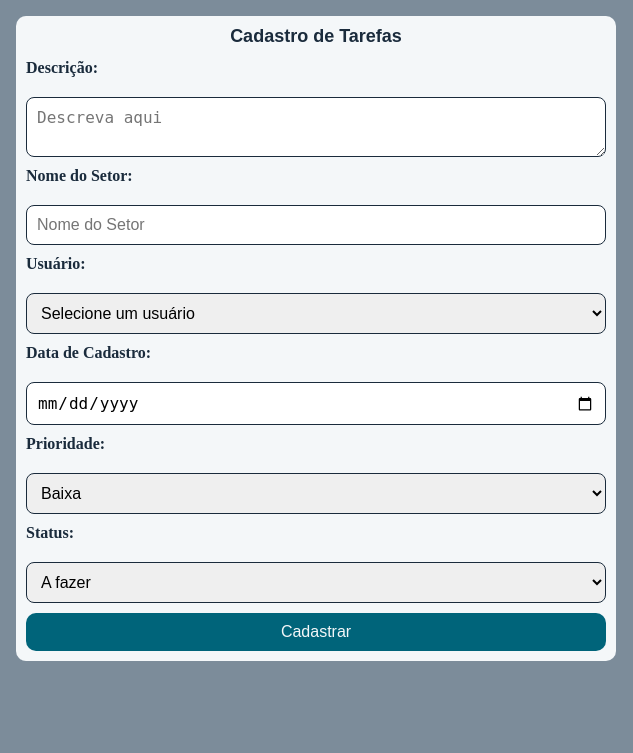
Scenario: Cadastro de Tarefas › deve mostrar erro se o nome do setor não for preenchido
# Preenche os campos obrigatórios, deixando 'Nome do Setor' vazio
Type "Descrição válida" into the text box labelled "Descrição:" at (316, 127), box [26,97,606,157]
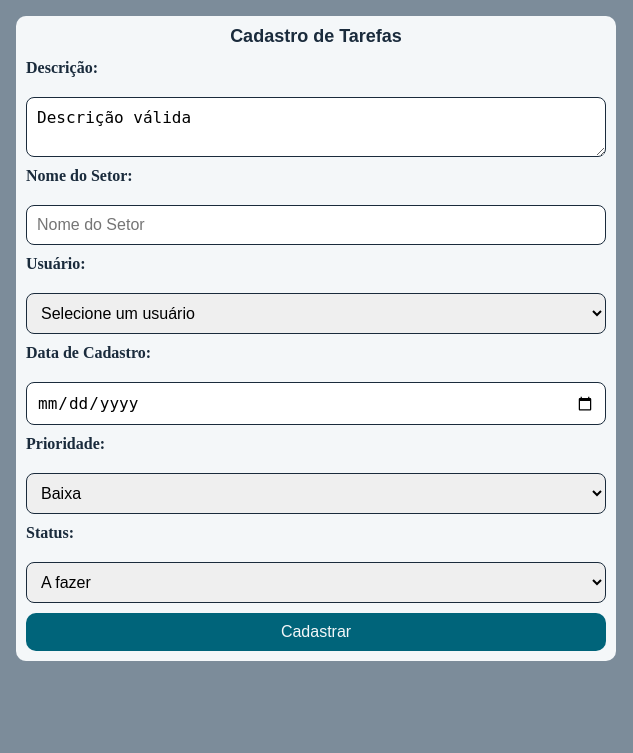
Select "1" in the dropdown labelled "Usuário:" at (316, 314), box [26,293,606,334]
Type "2025-01-01" into the date field labelled "Data de Cadastro:" at (316, 404), box [26,382,606,425]
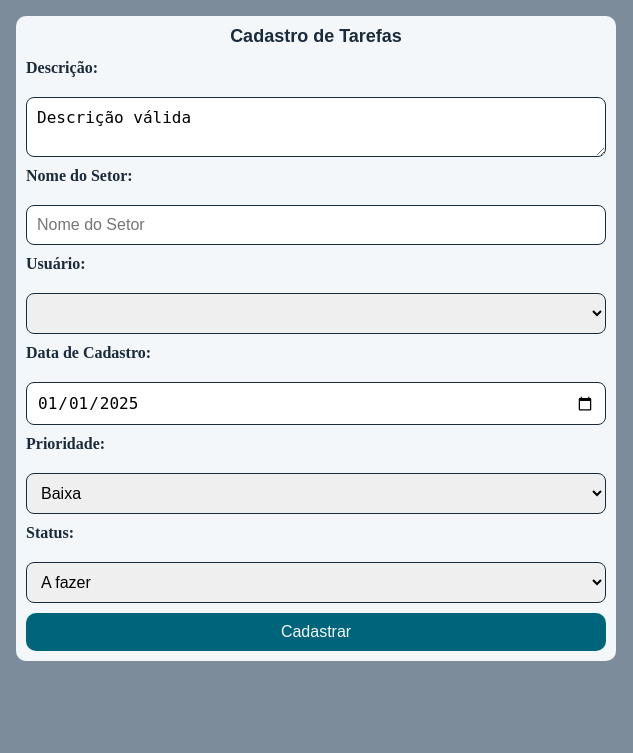
Click the button "Cadastrar" at (316, 632), box [26,613,606,651]
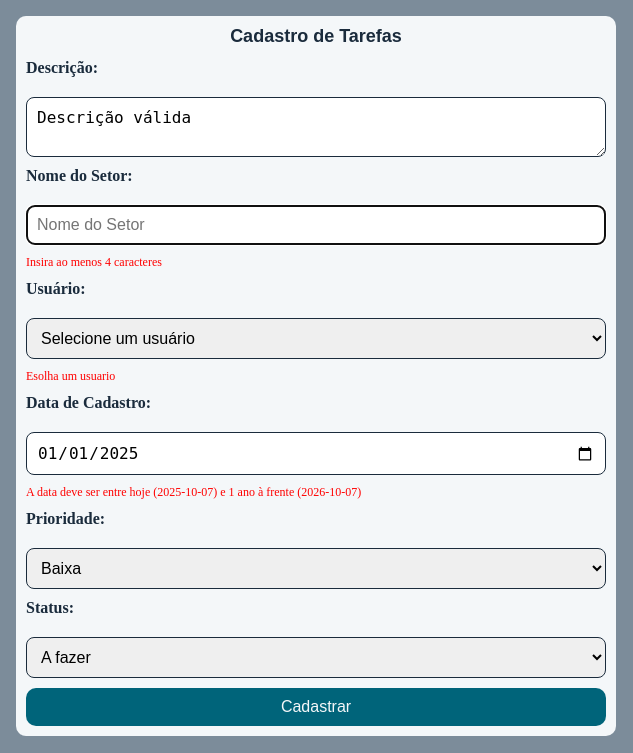
Check: the text "Insira ao menos 4 caracteres" is shown, box [26,255,162,269]
